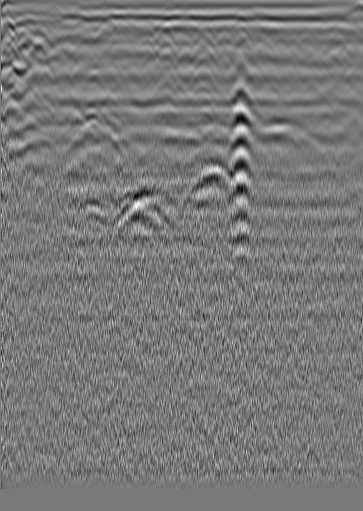가스: (71, 197, 109, 227)
상수: (322, 23, 342, 43)
오수: (28, 25, 48, 45)
우수: (193, 21, 213, 41)
